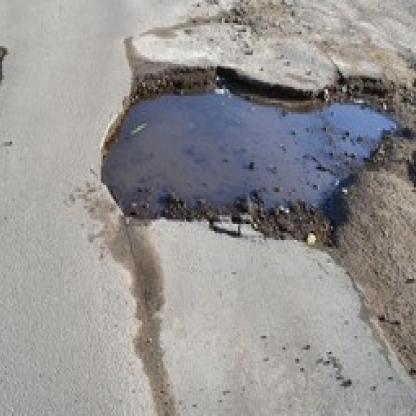pothole: (98, 62, 416, 249)
